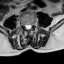CCS_normal: (27, 21, 29, 32)
LFS_normal: (31, 21, 33, 28)
LLS_normal: (29, 21, 31, 31)
RFS_normal: (23, 21, 25, 29)
RLS_normal: (25, 21, 27, 31)
